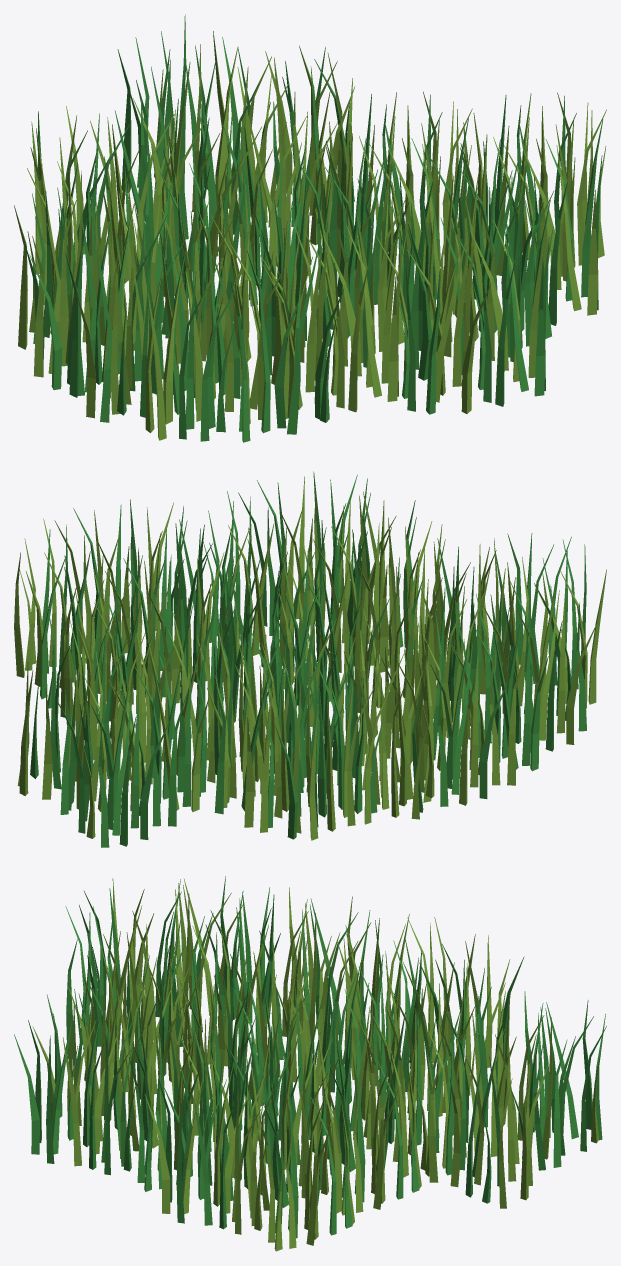
The picture shows the model from 3 angles, top to bottom: view 1: azimuth 30°, elevation 25°; view 2: azimuth 150°, elevation 25°; view 3: azimuth 270°, elevation 25°; orthographic projection. The views are drawn at different scales.
Parts seen in each view (by area): view 1: node_MeshObject773149120-PolyPaper9, node_MeshObject254429056-PolyPaper9, node_MeshObject1430771392-PolyPaper10; view 2: node_MeshObject773149120-PolyPaper9, node_MeshObject254429056-PolyPaper9, node_MeshObject1430771392-PolyPaper10; view 3: node_MeshObject773149120-PolyPaper9, node_MeshObject254429056-PolyPaper9, node_MeshObject1430771392-PolyPaper10.
Boxes of the visible parts, left/top/right/bottom form: node_MeshObject773149120-PolyPaper9: left=65, top=14, right=606, bottom=441; node_MeshObject254429056-PolyPaper9: left=14, top=99, right=453, bottom=419; node_MeshObject1430771392-PolyPaper10: left=161, top=235, right=336, bottom=442; node_MeshObject773149120-PolyPaper9: left=14, top=471, right=606, bottom=847; node_MeshObject254429056-PolyPaper9: left=75, top=517, right=548, bottom=840; node_MeshObject1430771392-PolyPaper10: left=447, top=533, right=571, bottom=713; node_MeshObject773149120-PolyPaper9: left=14, top=876, right=606, bottom=1251; node_MeshObject254429056-PolyPaper9: left=68, top=887, right=524, bottom=1212; node_MeshObject1430771392-PolyPaper10: left=65, top=894, right=190, bottom=1080.
Size of the model in its own units: 2.78 by 0.8966 by 2.84.
